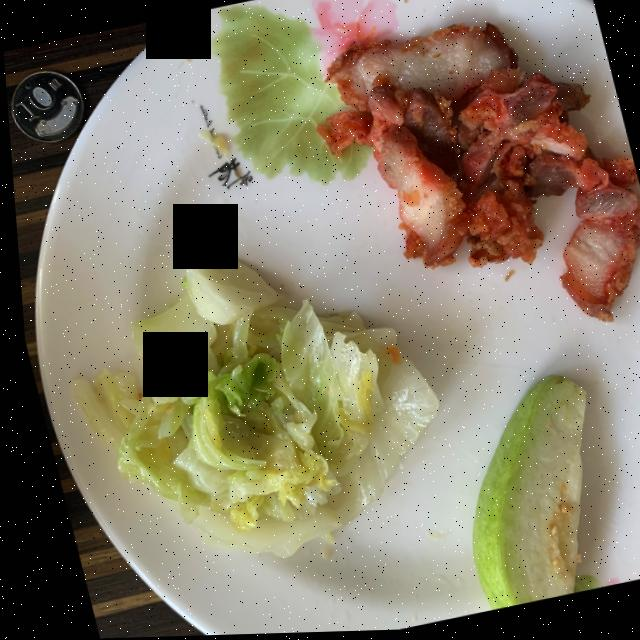cabbage: (66, 252, 430, 558)
coin: (8, 71, 81, 142)
guava -sliced-: (462, 378, 578, 612)
red grilled pork: (315, 27, 638, 323)
